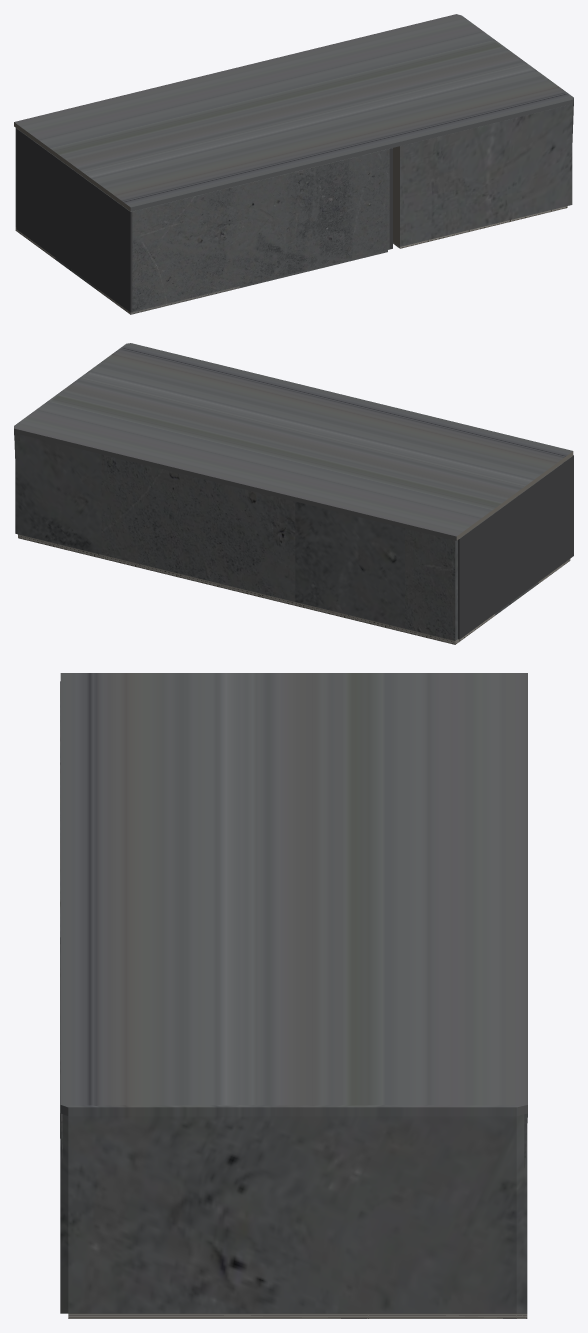
Rendered from sala001.fbx.
The picture shows the model from 3 angles, top to bottom: view 1: azimuth 30°, elevation 25°; view 2: azimuth 150°, elevation 25°; view 3: azimuth 270°, elevation 25°; orthographic projection. The views are drawn at different scales.
Parts seen in each view (by area): view 1: Cube; view 2: Cube; view 3: Cube.
Boxes of the visible parts, <box> form: Cube: <box>14,14,573,314</box>; Cube: <box>14,343,573,644</box>; Cube: <box>60,673,527,1318</box>.
Size of the model in its own units: 10852 by 2534 by 4939.
1 material, 1 textured.
